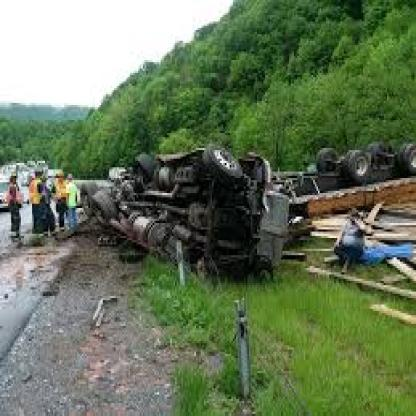accident: (82, 147, 308, 278)
